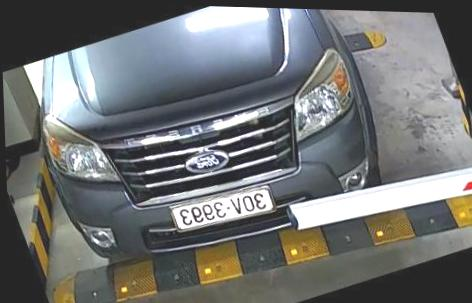License_Plate: (165, 176, 278, 239)
